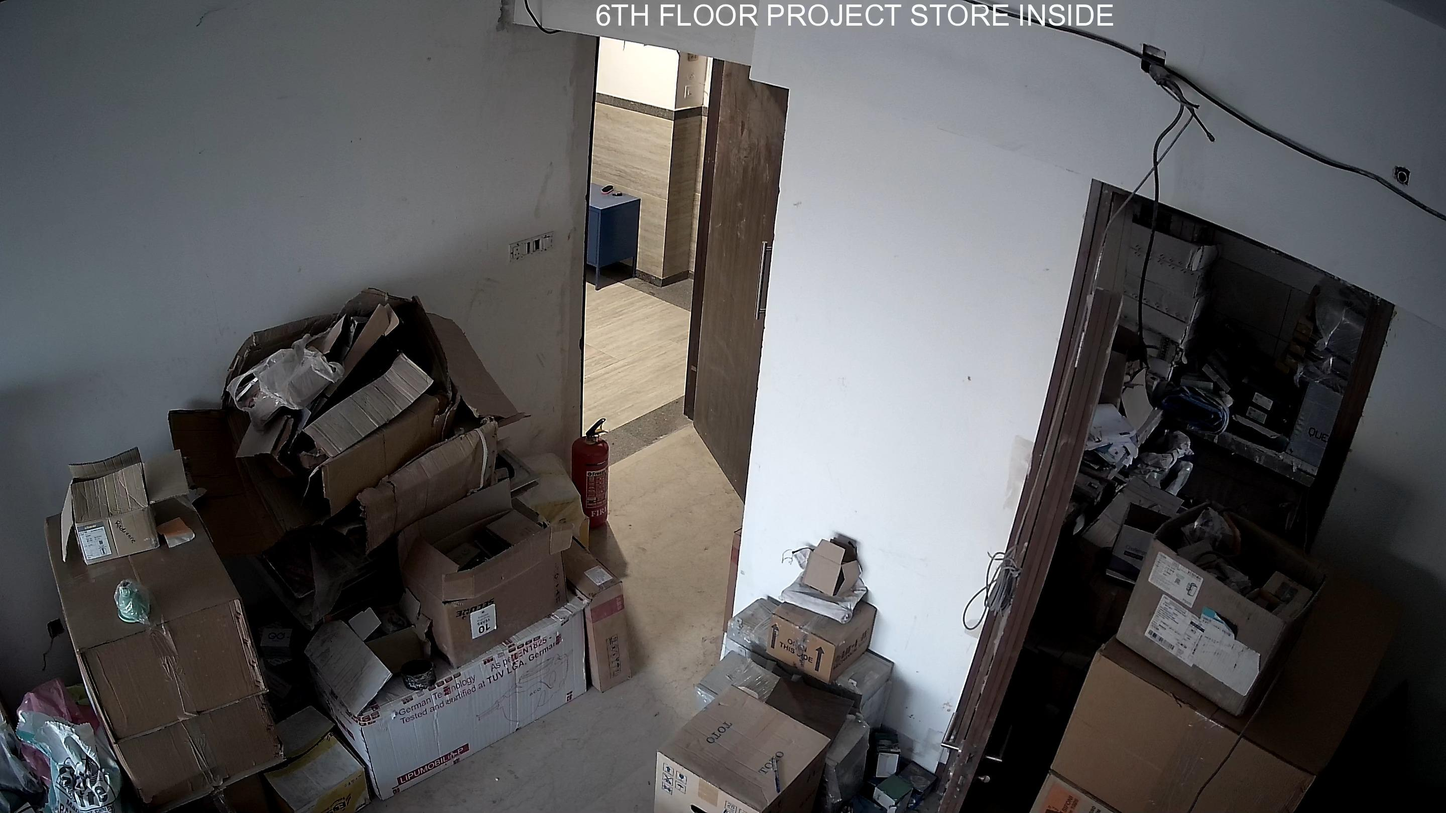Door-Open: (557, 43, 816, 550)
